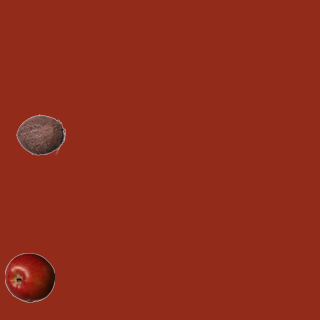Apple Braeburn: (4, 252, 54, 302)
Cocos: (15, 109, 65, 159)
